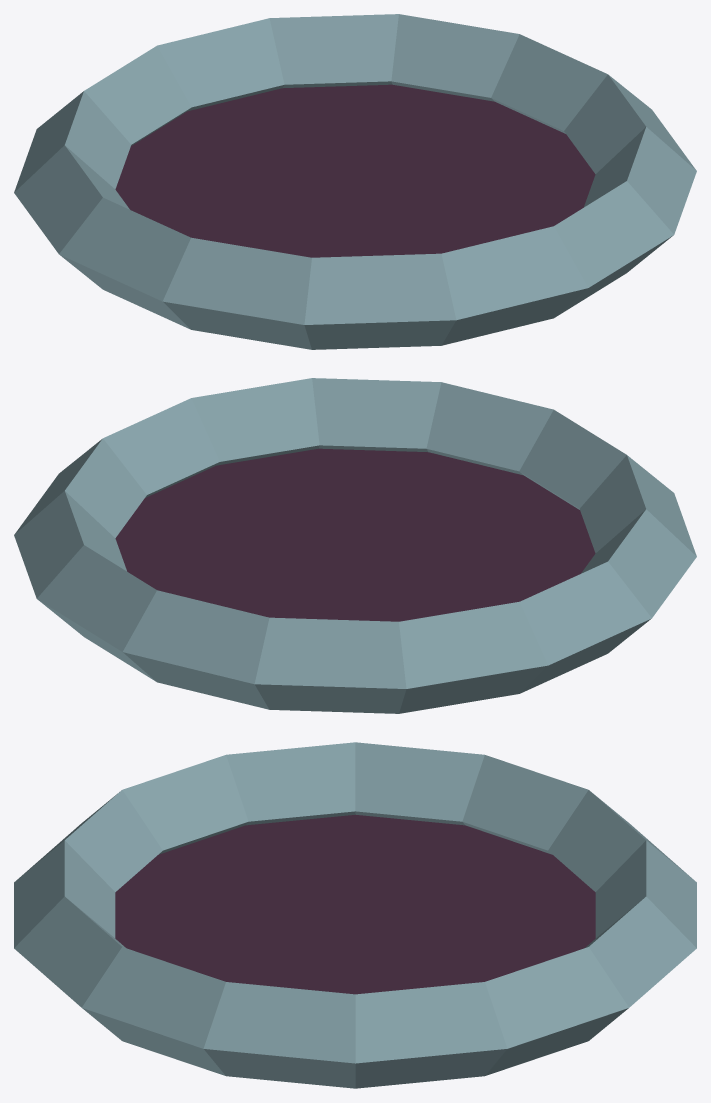
Rendered from hole.glb.
3 renders of one model, top to bottom at view 1: azimuth 30°, elevation 25°; view 2: azimuth 150°, elevation 25°; view 3: azimuth 270°, elevation 25°, orthographic. The views are drawn at different scales.
Parts seen in each view (by area): view 1: Rim, Pit; view 2: Rim, Pit; view 3: Rim, Pit.
Part boxes in pixels (<box>): Rim: <box>14,14,696,349</box>; Pit: <box>115,84,595,257</box>; Rim: <box>14,378,696,713</box>; Pit: <box>115,448,595,621</box>; Rim: <box>14,742,696,1088</box>; Pit: <box>115,814,595,994</box>.
Bounding box in the file's own units: 1.01 × 0.15 × 0.9847.
